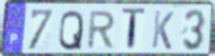3: (178, 9, 208, 53)
7: (27, 8, 55, 53)
K: (150, 10, 175, 52)
Q: (57, 9, 85, 53)
R: (85, 10, 118, 51)
T: (120, 7, 147, 54)
